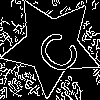C: (26, 21, 84, 79)
